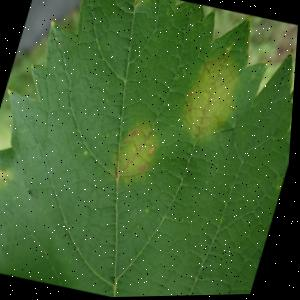Folha: (0, 0, 300, 300)
Fungo: (174, 41, 254, 146), (103, 117, 166, 186), (123, 124, 140, 147), (139, 161, 150, 174), (148, 145, 157, 157), (146, 207, 152, 214)
